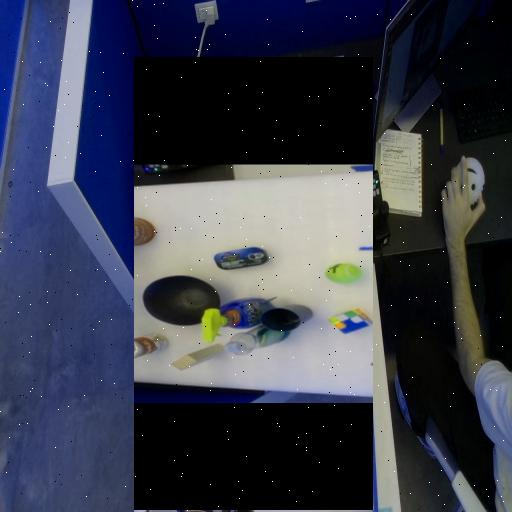bowl: (211, 174, 261, 249)
cleanser: (182, 254, 213, 319)
coffee_can: (292, 105, 320, 184)
jaco: (146, 402, 221, 511)
meat_can: (268, 245, 289, 298)
mug: (206, 303, 232, 329)
mustard_bottle: (246, 108, 266, 126)
rubik: (203, 359, 227, 401)
soup_can: (179, 145, 202, 197)
tennis_ball: (254, 357, 274, 391)
windex: (195, 244, 239, 285)
wooden_block: (167, 201, 192, 252)
workspace: (134, 171, 373, 398)
